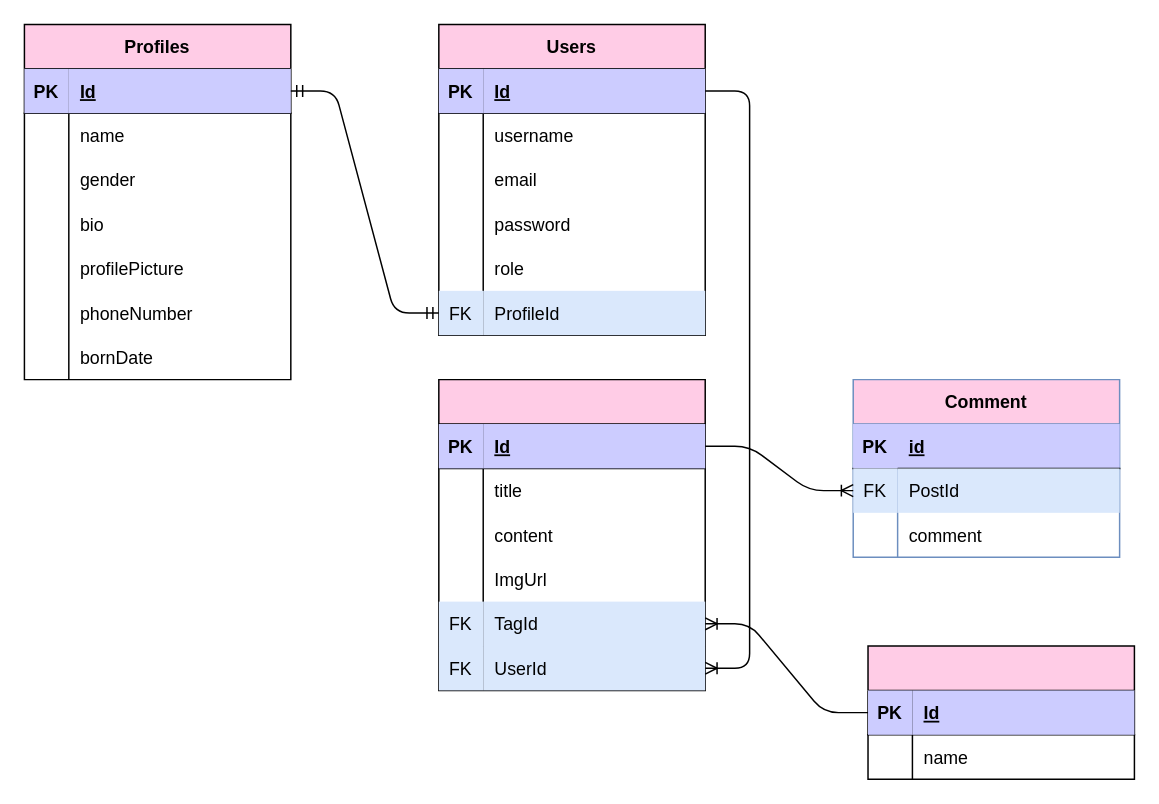
Some shapes in this 1159 by 804 pixel diagram are drawn without their labels. Here are the shapes that lost their labels. From the top down, the box of each, then its label:
(437, 378, 705, 690): Posts
(867, 645, 1134, 779): Tags
